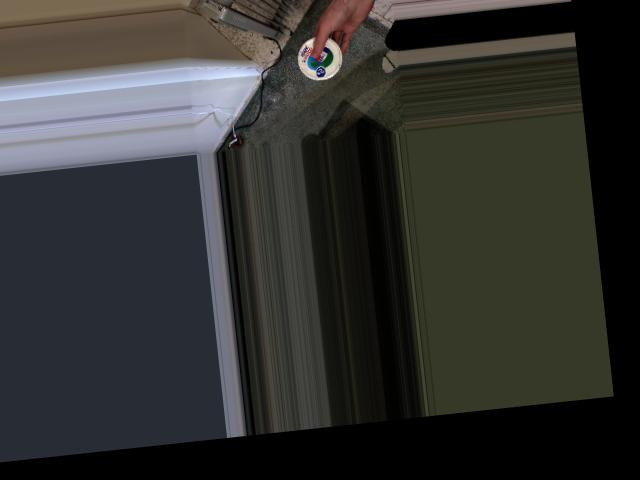cotage: (297, 34, 343, 79)
